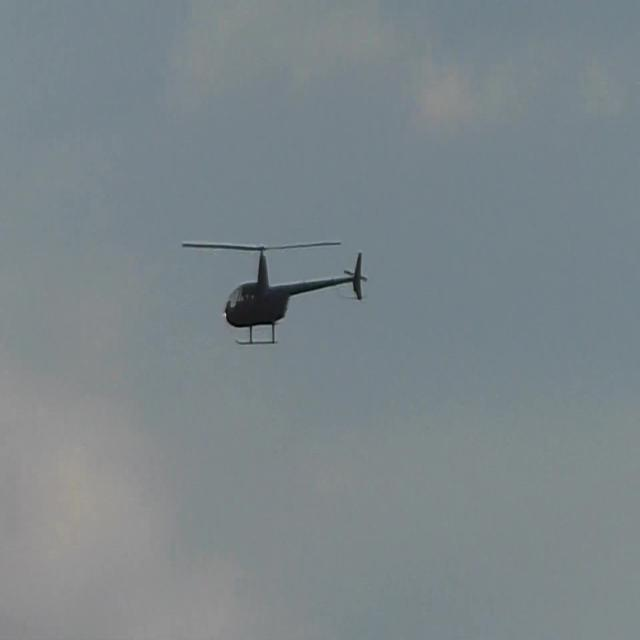CIV_HELO: (223, 240, 368, 346)
